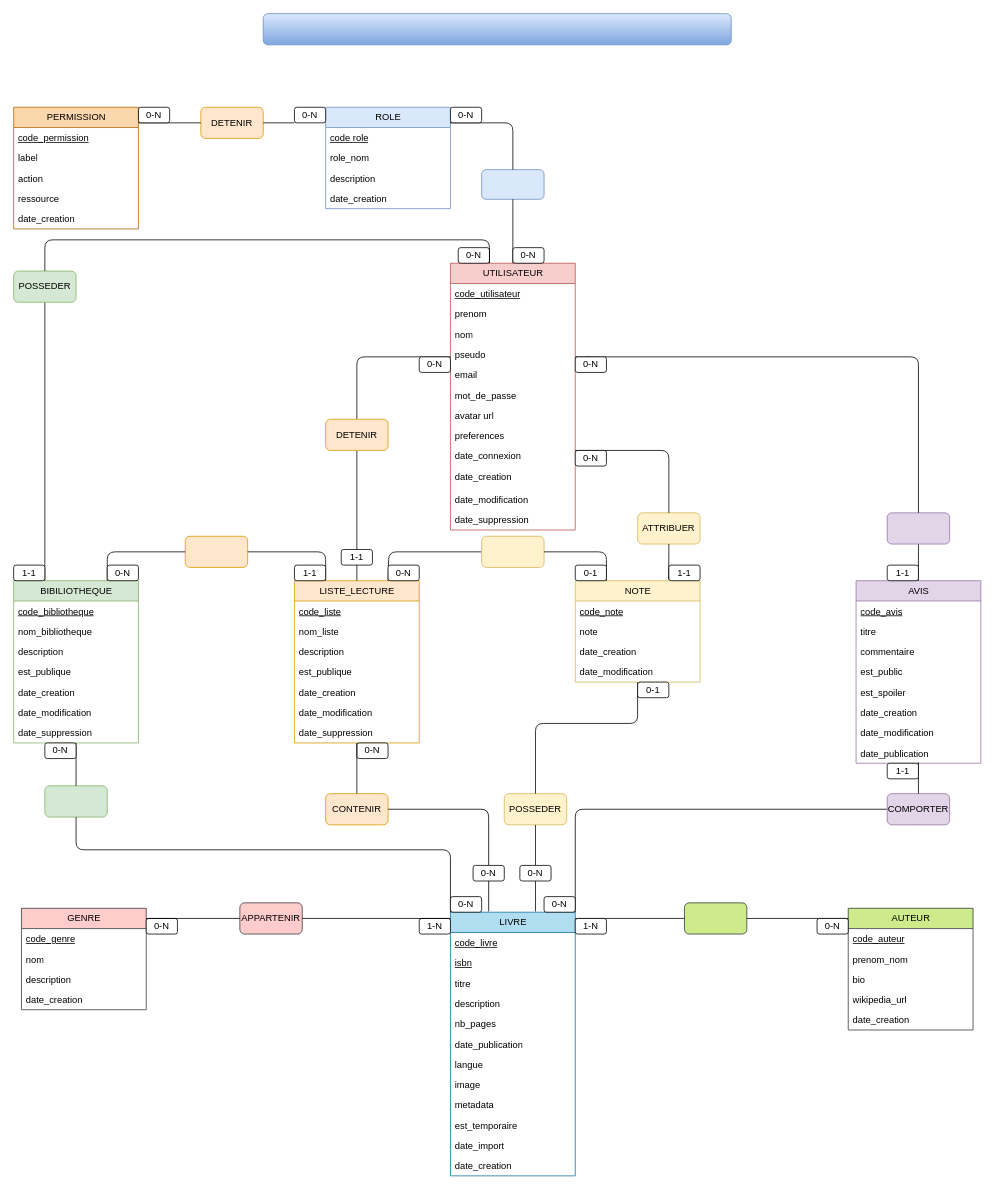
Image size: 994x1192. Some labels were removed from this diagram. The shapes that lost their labels are listed below. From the top down, each one's centre as x and y in pixels, then its label:
point 496,29: MCD - RBAC - BLABLABOOK
point 512,184: AVOIR
point 918,528: REDIGER
point 216,551: INCLURE
point 512,551: RECEVOIR
point 75,801: DISPOSER
point 715,918: ECRIRE
